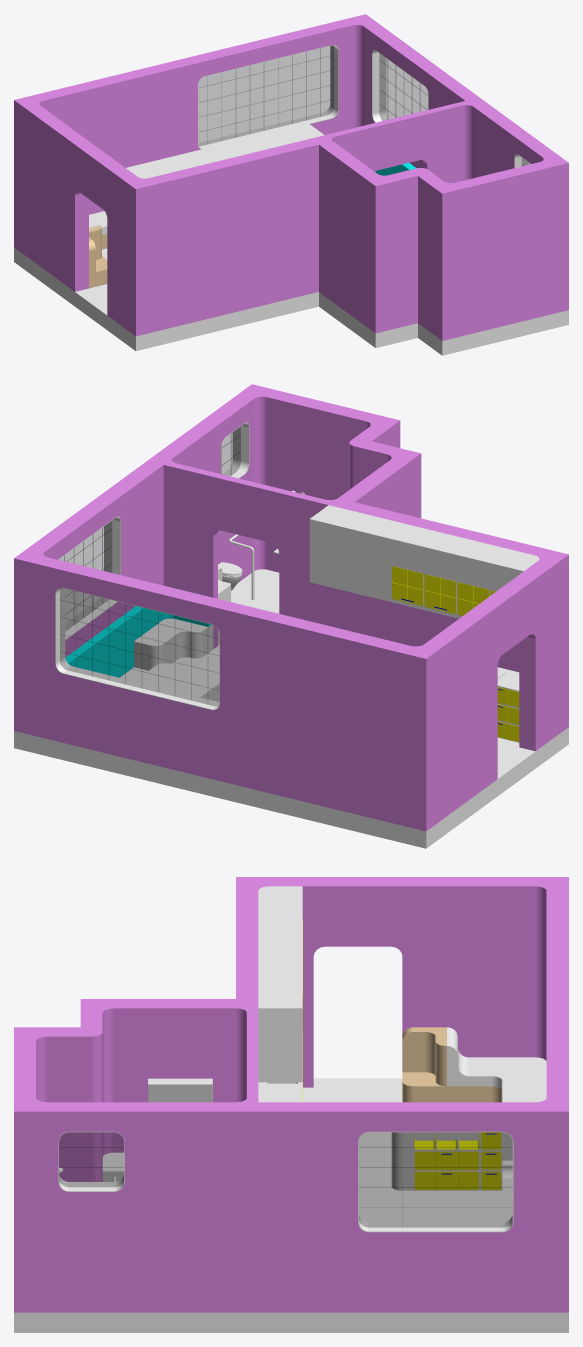
Rendered from mobility typeA OptionC.glb.
3 views of the same model, one above another, from view 1: azimuth 30°, elevation 25°; view 2: azimuth 150°, elevation 25°; view 3: azimuth 270°, elevation 25° (orthographic). The views are drawn at different scales.
Parts seen in each view (by area): view 1: wall, 玻璃, floor, 窗框（金属）, 橱柜，木制或者整体性强的材质, 沙发硬边; view 2: wall, 橱柜，木制或者整体性强的材质, 玻璃, floor, 窗框（金属）, 柜门，区别于整体的柜子, 15MM 软包边-皮质, 床（软包，软垫，皮纹细腻）; view 3: wall, floor, 玻璃, 橱柜，木制或者整体性强的材质, 柜门，区别于整体的柜子, 沙发硬边, 沙发（软包，软垫，皮纹细腻）, 窗框（金属）, 岛台，木色或者和沙发底框一个颜色, 床（软包，软垫，皮纹细腻）, 镜子（玻璃, 陶瓷（白色）.
Part boxes in pixels (x1,y1,x2,y2): wall: (14, 14, 568, 340); 玻璃: (199, 45, 529, 165); floor: (14, 247, 568, 355); 窗框（金属）: (198, 45, 530, 168); 橱柜，木制或者整体性强的材质: (126, 123, 324, 178); 沙发硬边: (89, 225, 107, 288); wall: (14, 384, 568, 831); 橱柜，木制或者整体性强的材质: (134, 505, 539, 742); 玻璃: (59, 427, 240, 706); floor: (14, 569, 568, 848); 窗框（金属）: (55, 422, 249, 710); 柜门，区别于整体的柜子: (392, 566, 519, 741); 15MM 软包边-皮质: (65, 606, 211, 677); 床（软包，软垫，皮纹细腻）: (134, 663, 219, 699); wall: (14, 877, 568, 1312); floor: (14, 1078, 568, 1332); 玻璃: (59, 1132, 512, 1227); 橱柜，木制或者整体性强的材质: (258, 886, 302, 1102); 柜门，区别于整体的柜子: (302, 919, 501, 1189); 沙发硬边: (402, 1027, 502, 1102); 沙发（软包，软垫，皮纹细腻）: (447, 1027, 546, 1102); 窗框（金属）: (58, 1131, 513, 1232); 岛台，木色或者和沙发底框一个颜色: (391, 1132, 512, 1190); 床（软包，软垫，皮纹细腻）: (380, 1160, 512, 1222); 镜子（玻璃: (147, 1078, 212, 1102); 陶瓷（白色）: (102, 1152, 124, 1181).
Size of the model in its own units: 7.5 by 3.3 by 7.5.
